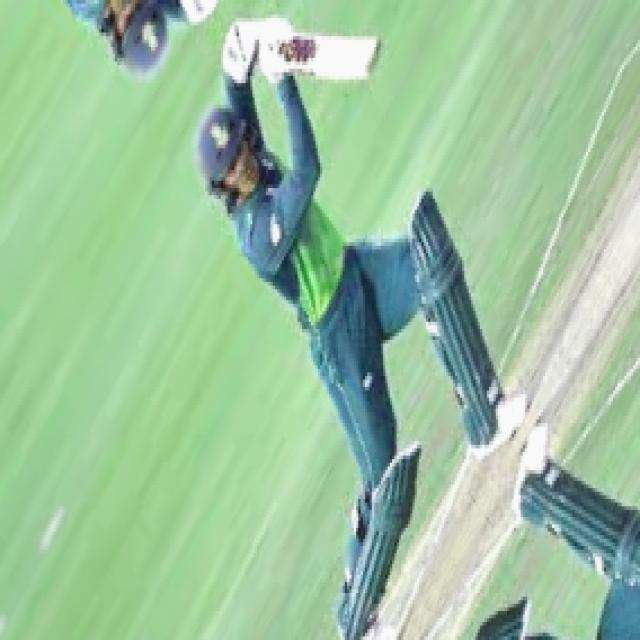bat: (259, 28, 409, 89)
toe: (358, 36, 391, 83)
